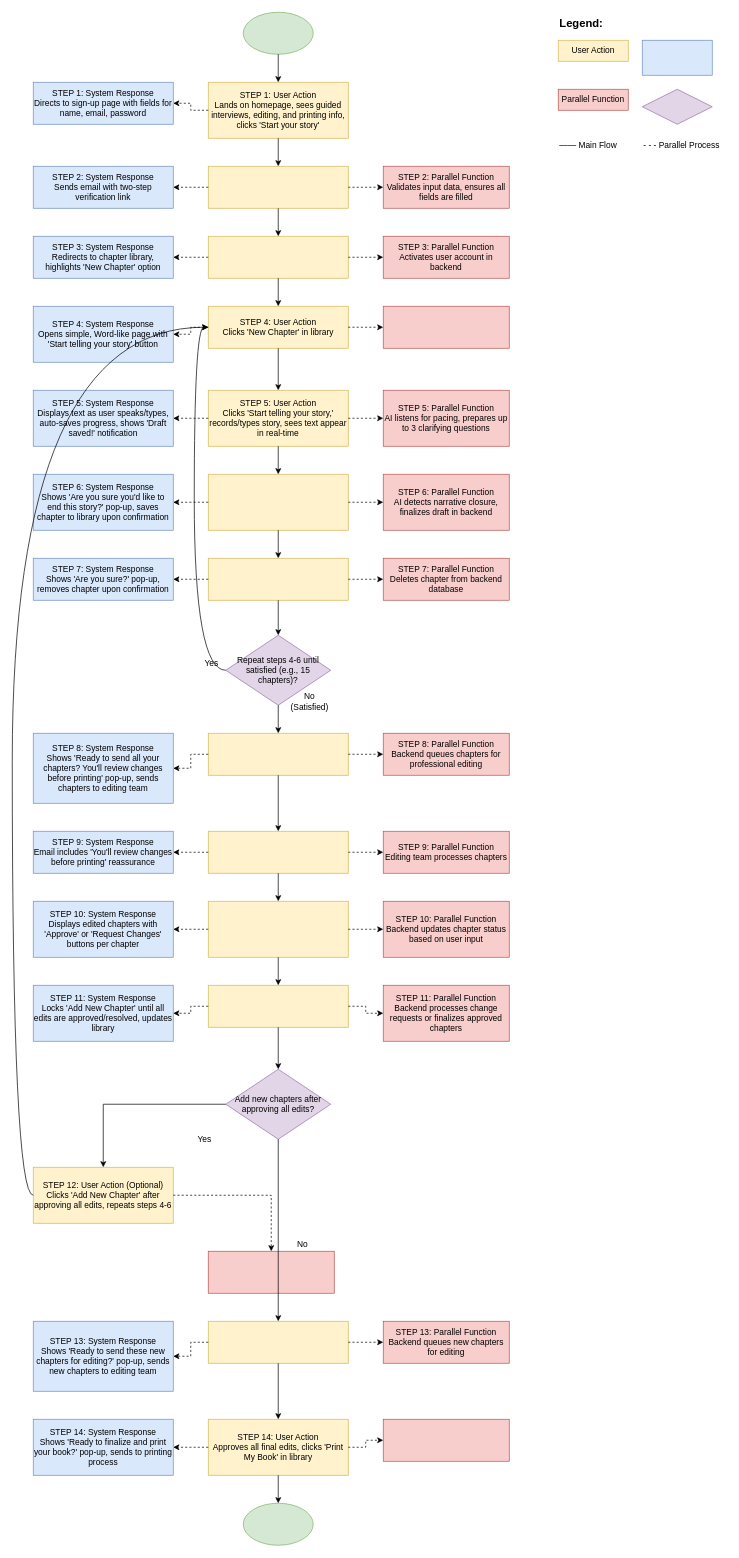
The diagram is 739 pixels wide and 1558 high, and some of its shapes have lost their labels. Each missing label, with the centre of its shape:
"Decision Point" belongs at point (677, 106).
"END Book Printed!" belongs at point (278, 1524).
"START" belongs at point (278, 33).
"STEP 10: User Action Receives email to review edited chapters, logs into account" belongs at point (278, 929).
"STEP 11: User Action Approves or requests changes for all chapters" belongs at point (278, 1006).
"STEP 12: Parallel Function AI and backend handle new chapter creation" belongs at point (271, 1272).
"STEP 13: User Action Clicks 'Submit for Editing' for new chapters" belongs at point (278, 1342).
"STEP 14: Parallel Function Backend prepares book for printing" belongs at point (446, 1440).
"STEP 2: User Action Enters name, email, password, submits sign-up form" belongs at point (278, 187).
"STEP 3: User Action Clicks verification link in email" belongs at point (278, 257).
"STEP 4: Parallel Function Auto-saves draft begins in backend" belongs at point (446, 327).
"STEP 6: User Action Pauses or finishes story, clicks 'Finish Story' button" belongs at point (278, 502).
"STEP 7: User Action (Optional) Clicks 'Delete Chapter' in library" belongs at point (278, 579).
"STEP 8: User Action Clicks 'Submit for Editing' in library" belongs at point (278, 754).
"STEP 9: User Action Receives email confirming submission" belongs at point (278, 852).
"System Response (Parallel Process)" belongs at point (677, 57).
